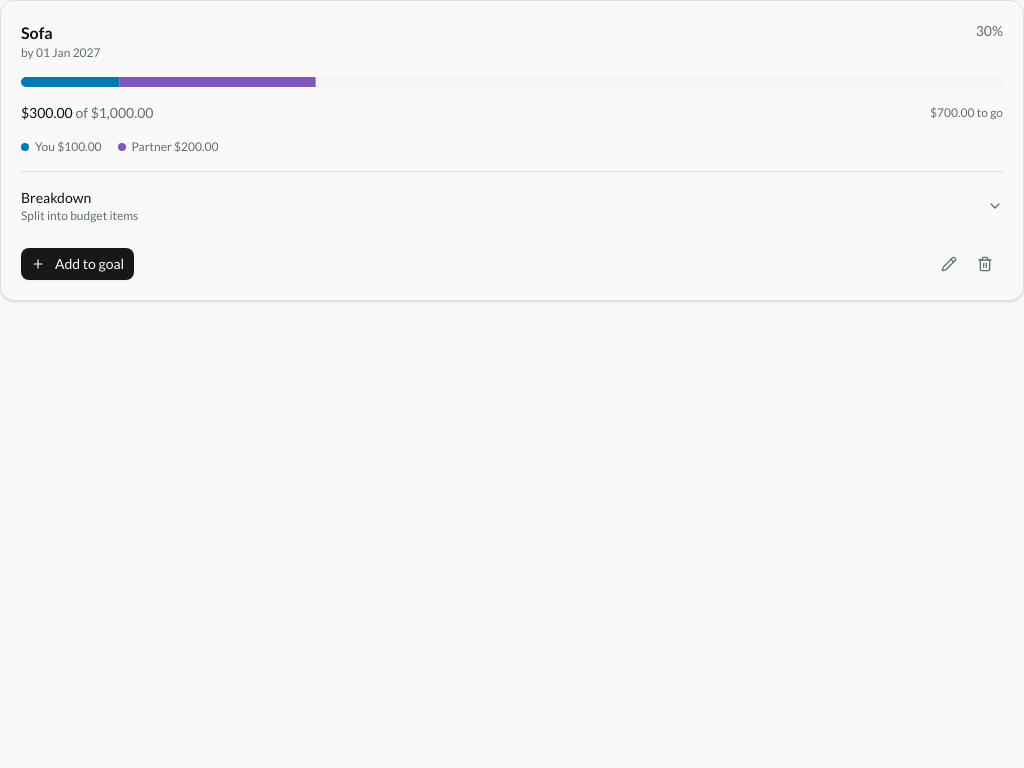
Scenario: household workflows with real mutation hooks › adds contribution with date and trimmed note then closes dialog
The image size is (1024, 768).
Click the button "Add to goal" at (78, 264), box [21,248,134,280]
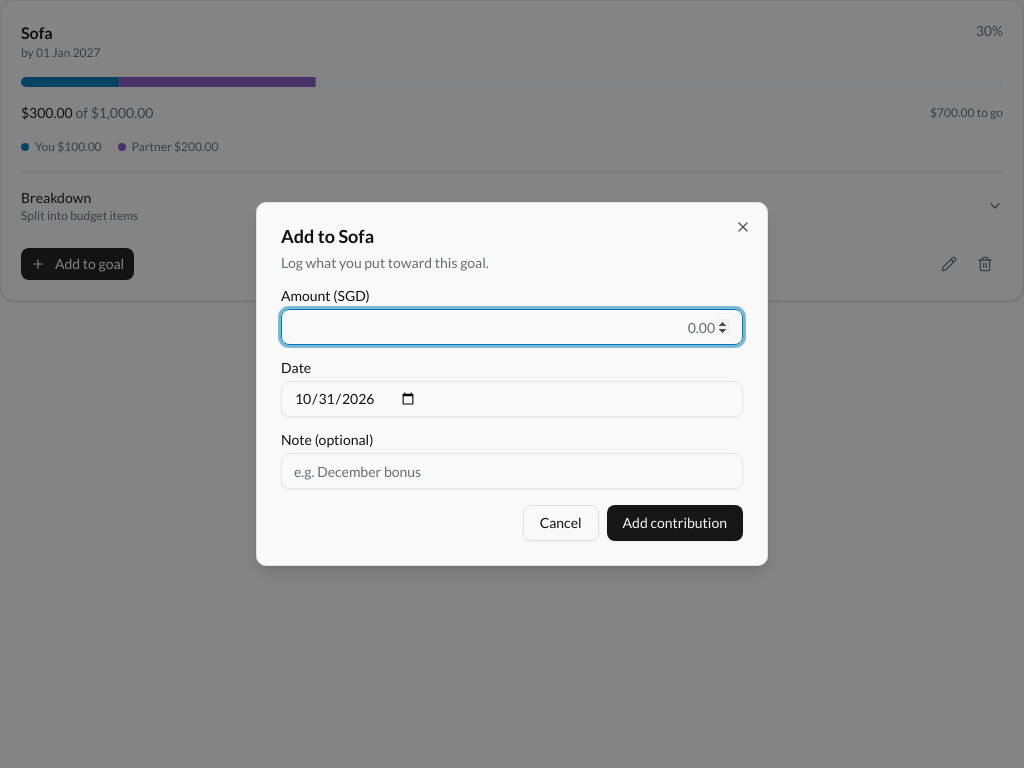
Click the button "Add contribution" at (675, 523), box [607,505,743,541]
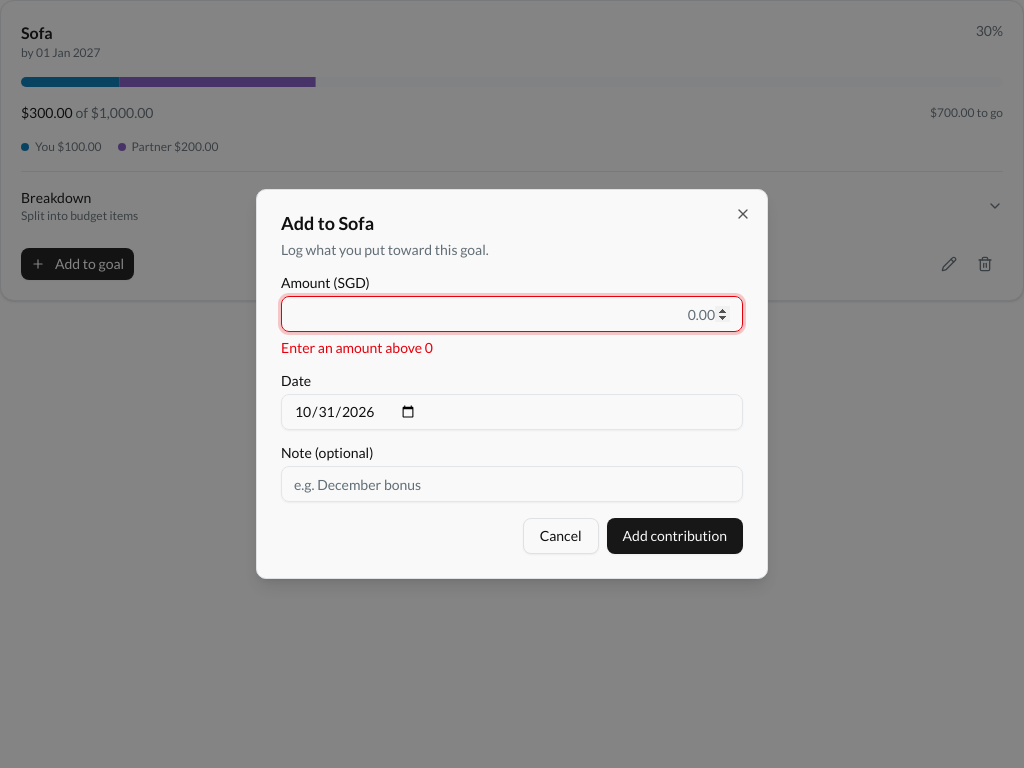
Type "50" into the number field labelled "Amount (SGD)" at (512, 314), box [281,296,743,332]
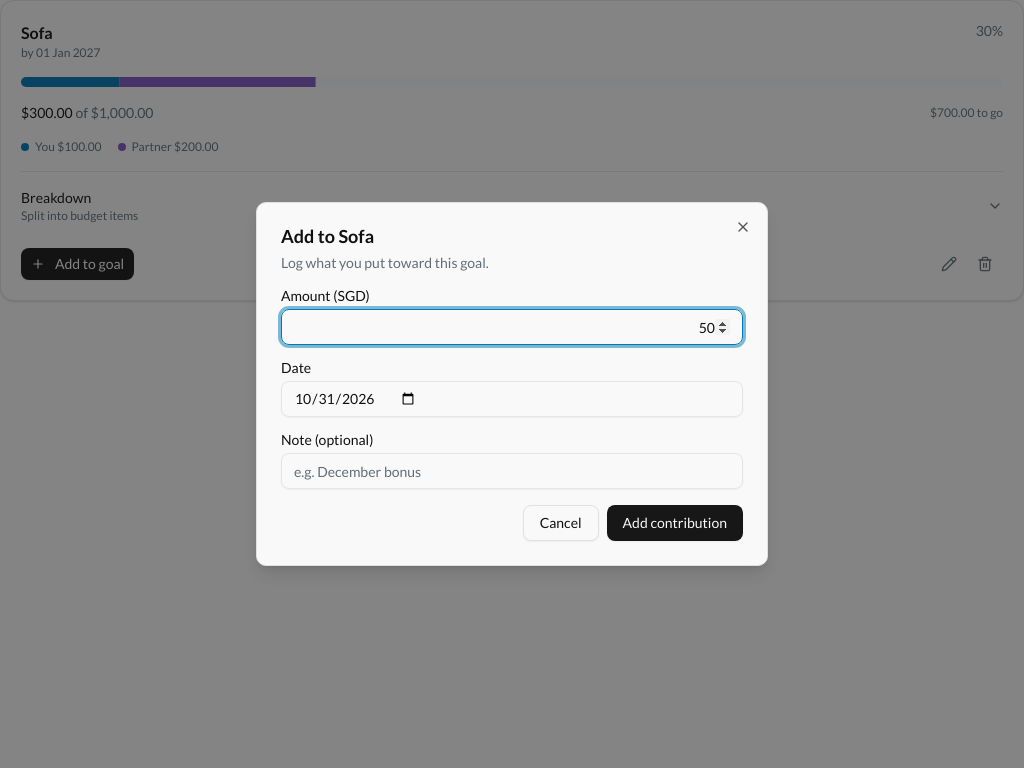
Type "  Bonus  " into the field labelled "Note (optional)" at (512, 471), box [281,453,743,489]
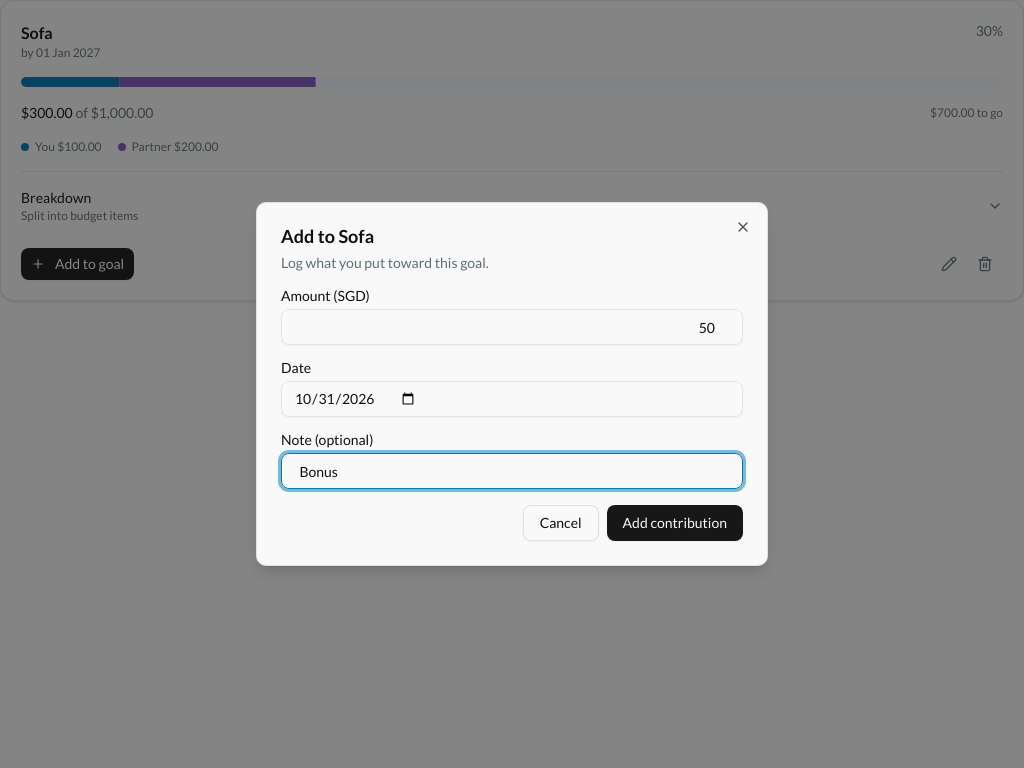
Type "2026-10-08" into the date field labelled "Date" at (512, 399), box [281,381,743,417]
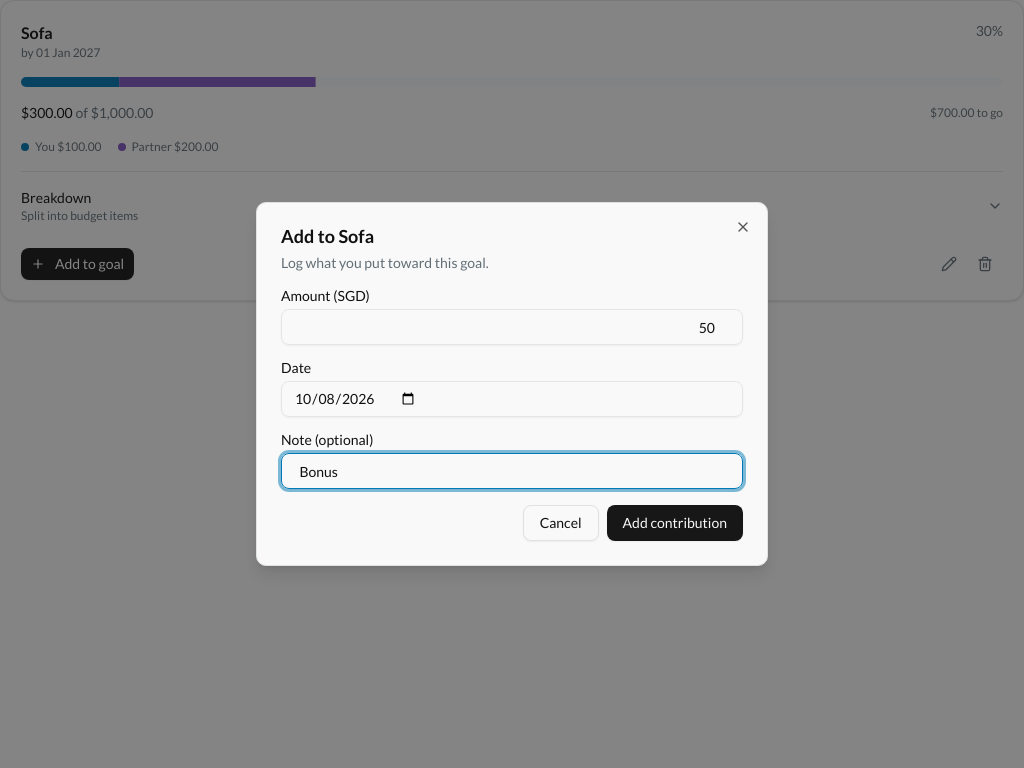
Click the button "Add contribution" at (675, 523), box [607,505,743,541]
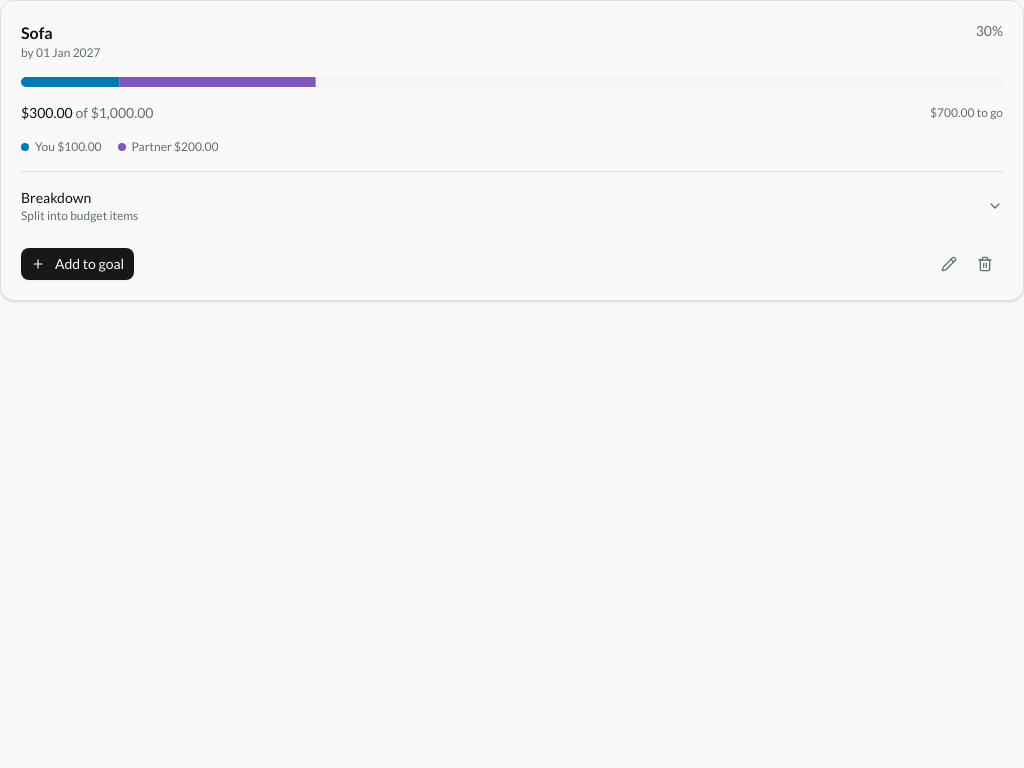
Check: the dialog is gone
